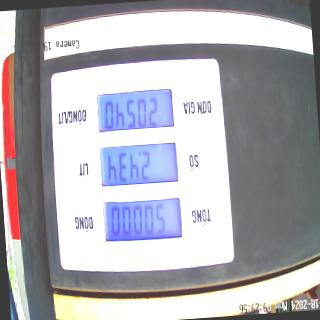screen: (92, 84, 183, 245)
